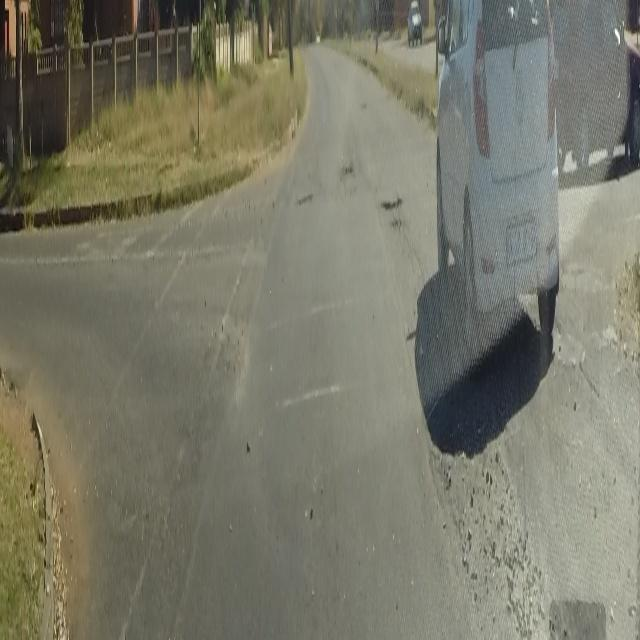pothole: (378, 196, 401, 233), (295, 188, 315, 212), (338, 163, 352, 180)
